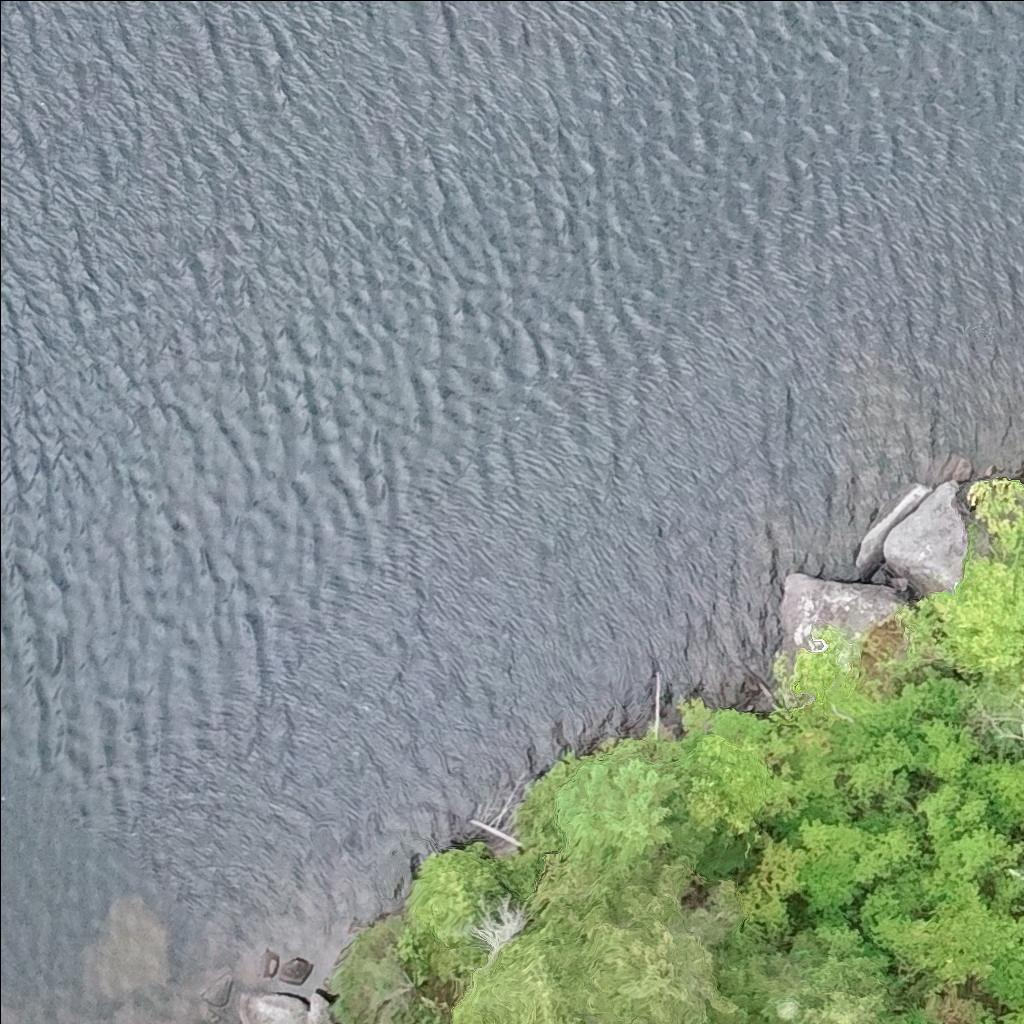crown: (548, 854, 743, 1023), (800, 920, 908, 1023), (756, 939, 821, 1023), (1017, 679, 1023, 701)
